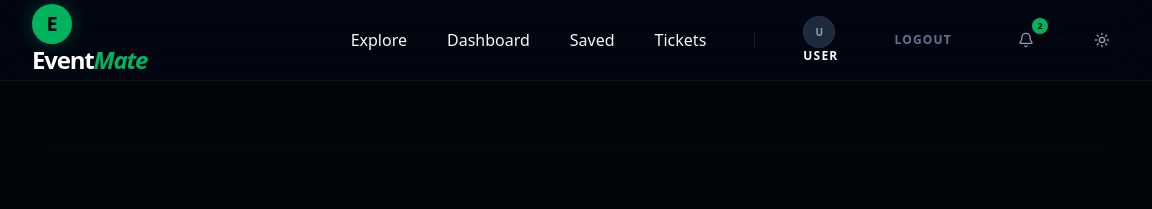
Test: Navbar › opens notifications and marks them as read
Step 1. Click the button "2" → click(1026, 40), box x1=1008 y1=22 x2=1044 y2=58
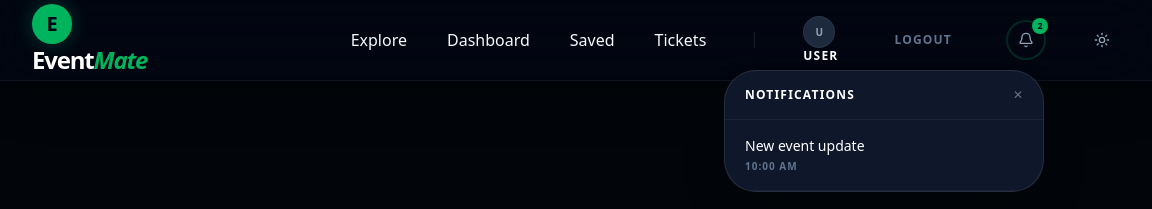
Check: the text "Notifications" is shown, box x1=745 y1=87 x2=855 y2=103
Check: the text "New event update" is shown, box x1=745 y1=136 x2=864 y2=155
